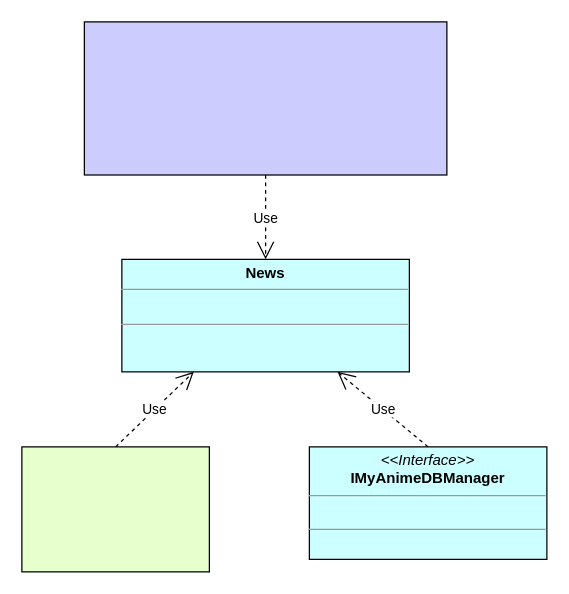
Some shapes in this 569 by 594 pixel diagram are drawn without their labels. Each missing label, with the centre of its shape:
"HomeViewState" goes at (115,509).
"MyAnimeHubDBManagerJsonAdapter" goes at (265,98).
